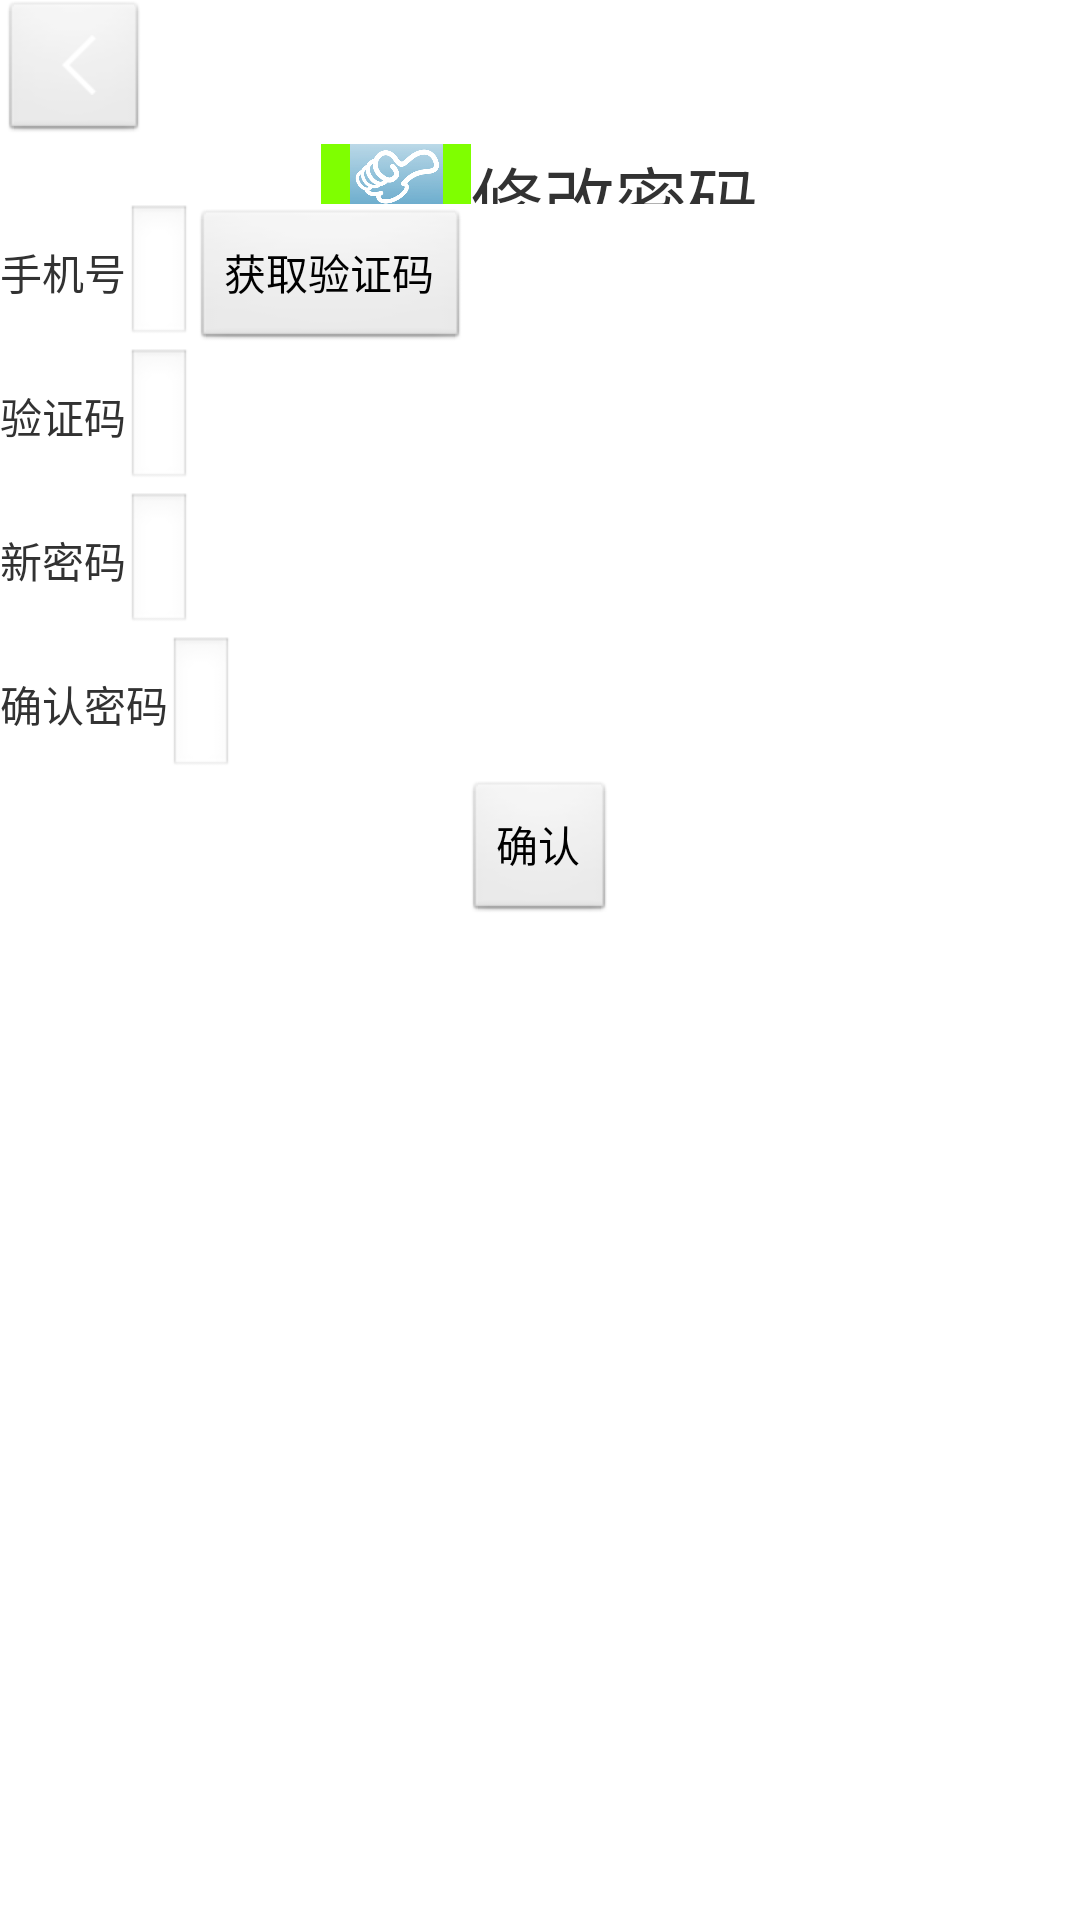

Icon bounding boxes for this 1080×1920 phone screenshot, format (x1, y1, x2, y2):
back: (8, 2, 140, 132)
